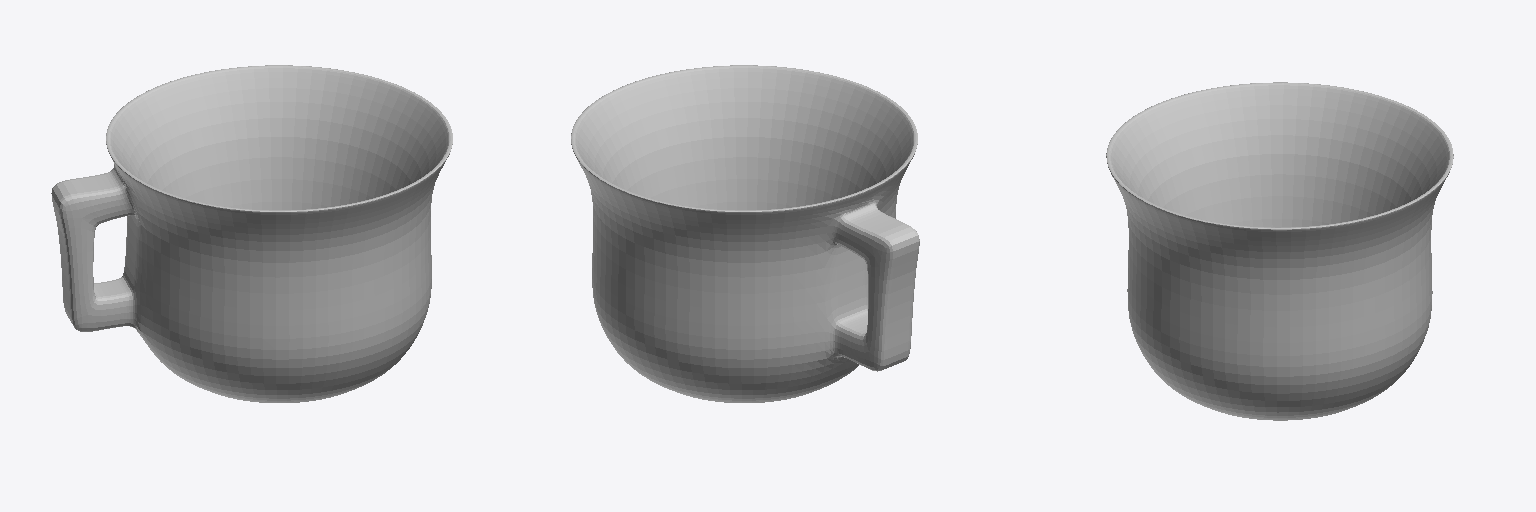
The model's file is qin1.obj.
The picture shows the model from 3 angles: view 1: azimuth 30°, elevation 25°; view 2: azimuth 150°, elevation 25°; view 3: azimuth 270°, elevation 25°; orthographic projection.
Visible parts, largest first — view 1: FBXASC051DFBXASC232FBXASC181FBXASC132FBXASC230FBXASC186FBXASC144; view 2: FBXASC051DFBXASC232FBXASC181FBXASC132FBXASC230FBXASC186FBXASC144; view 3: FBXASC051DFBXASC232FBXASC181FBXASC132FBXASC230FBXASC186FBXASC144.
Part boxes in pixels (left/top/right/bottom): FBXASC051DFBXASC232FBXASC181FBXASC132FBXASC230FBXASC186FBXASC144: left=51, top=65, right=452, bottom=402; FBXASC051DFBXASC232FBXASC181FBXASC132FBXASC230FBXASC186FBXASC144: left=571, top=65, right=919, bottom=402; FBXASC051DFBXASC232FBXASC181FBXASC132FBXASC230FBXASC186FBXASC144: left=1106, top=82, right=1453, bottom=420.
Bounding box in the file's own units: 1.64 × 1.01 × 1.42.